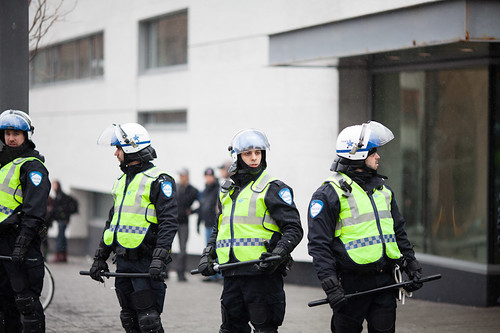policeman: (297, 113, 419, 332), (78, 119, 191, 330), (197, 128, 305, 332), (1, 108, 57, 333)
